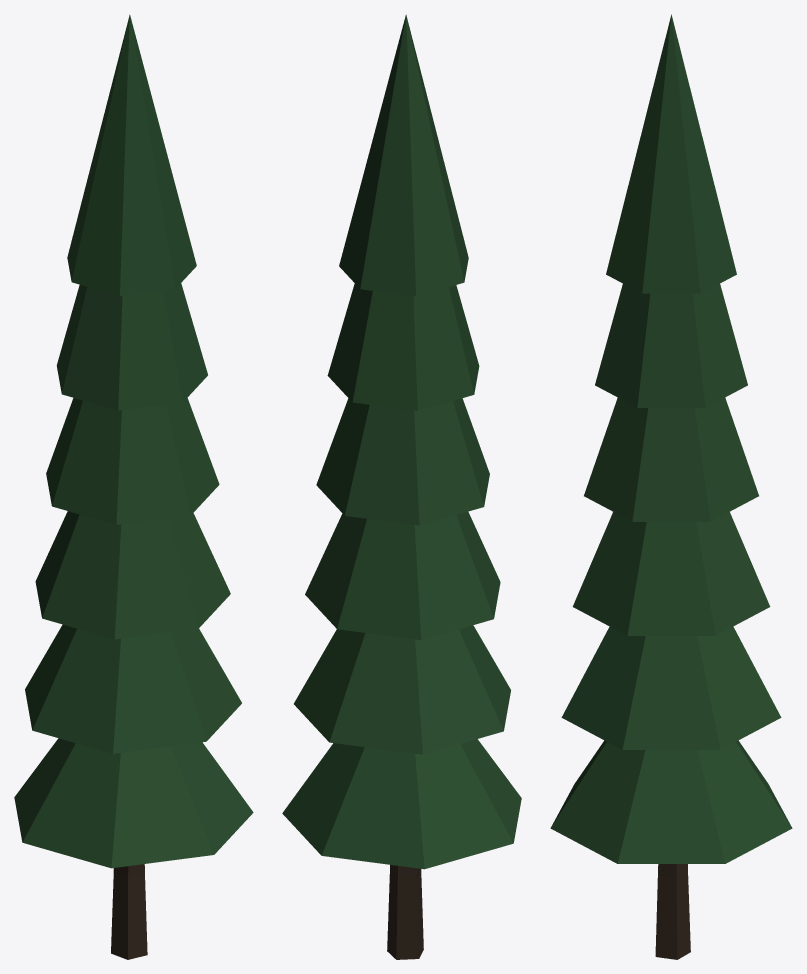
3 renders of one model, left to right at view 1: azimuth 30°, elevation 25°; view 2: azimuth 150°, elevation 25°; view 3: azimuth 270°, elevation 25°, orthographic.
Visible parts, largest first — view 1: 树_09; view 2: 树_09; view 3: 树_09.
Part boxes in pixels (x1,y1,x2,y2): 树_09: (14, 14, 253, 959); 树_09: (282, 14, 521, 959); 树_09: (550, 14, 792, 959).
Size of the model in its own units: 2.51 by 11 by 2.57.
